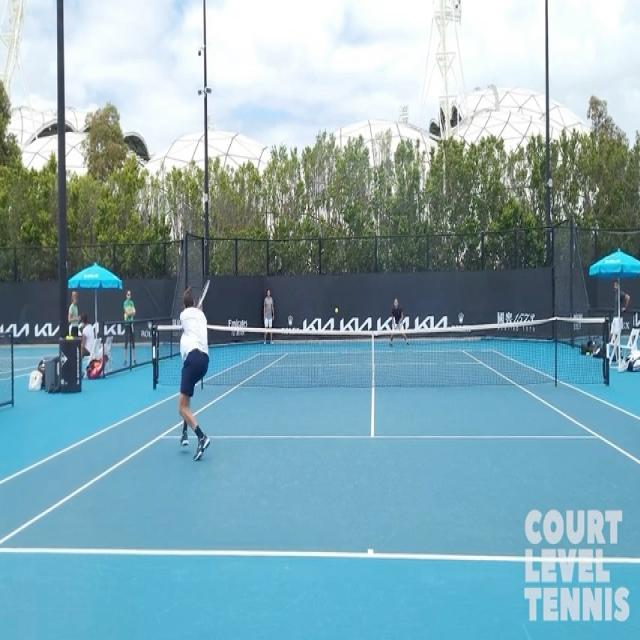backhand-stroke: (163, 258, 220, 466)
